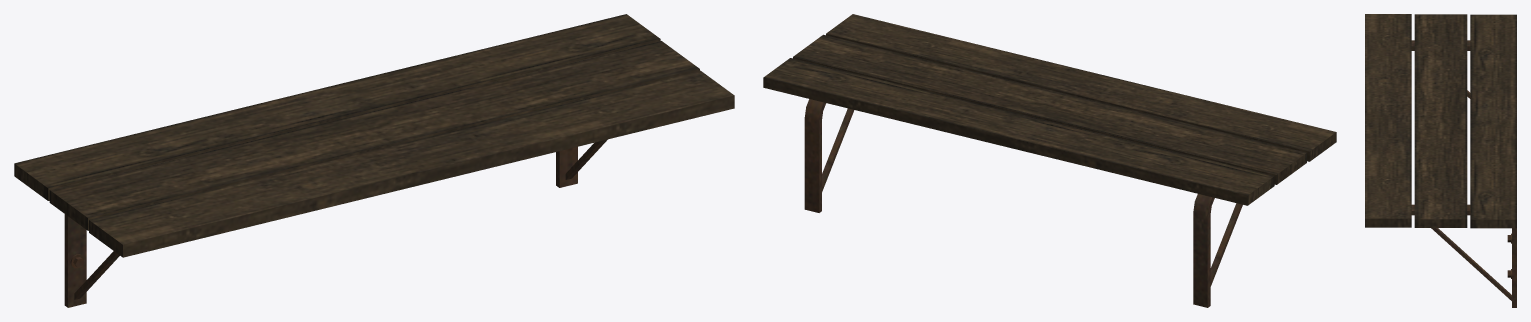
File: hanging_shelf_mx_2.obj
The picture shows the model from 3 angles, left to right: view 1: azimuth 30°, elevation 25°; view 2: azimuth 150°, elevation 25°; view 3: azimuth 270°, elevation 25°; orthographic projection. The views are drawn at different scales.
Parts seen in each view (by area): view 1: hanging_shelf_mx_2; view 2: hanging_shelf_mx_2; view 3: hanging_shelf_mx_2.
Boxes of the visible parts, bbox=[...] form: hanging_shelf_mx_2: bbox=[14, 14, 734, 307]; hanging_shelf_mx_2: bbox=[763, 14, 1336, 307]; hanging_shelf_mx_2: bbox=[1365, 14, 1516, 307].
Size of the model in its own units: 1 by 0.24 by 0.312.
